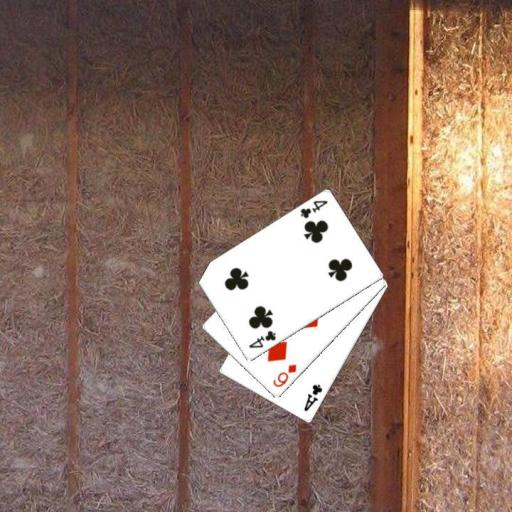4C: (246, 327, 278, 350), (297, 197, 329, 220)
6D: (269, 361, 298, 389)
AC: (301, 381, 324, 413)
